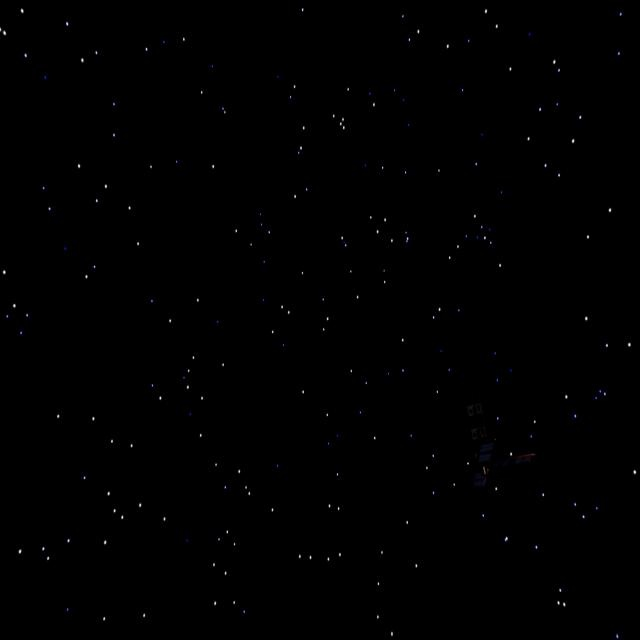medium_debris: (450, 395, 540, 498)
